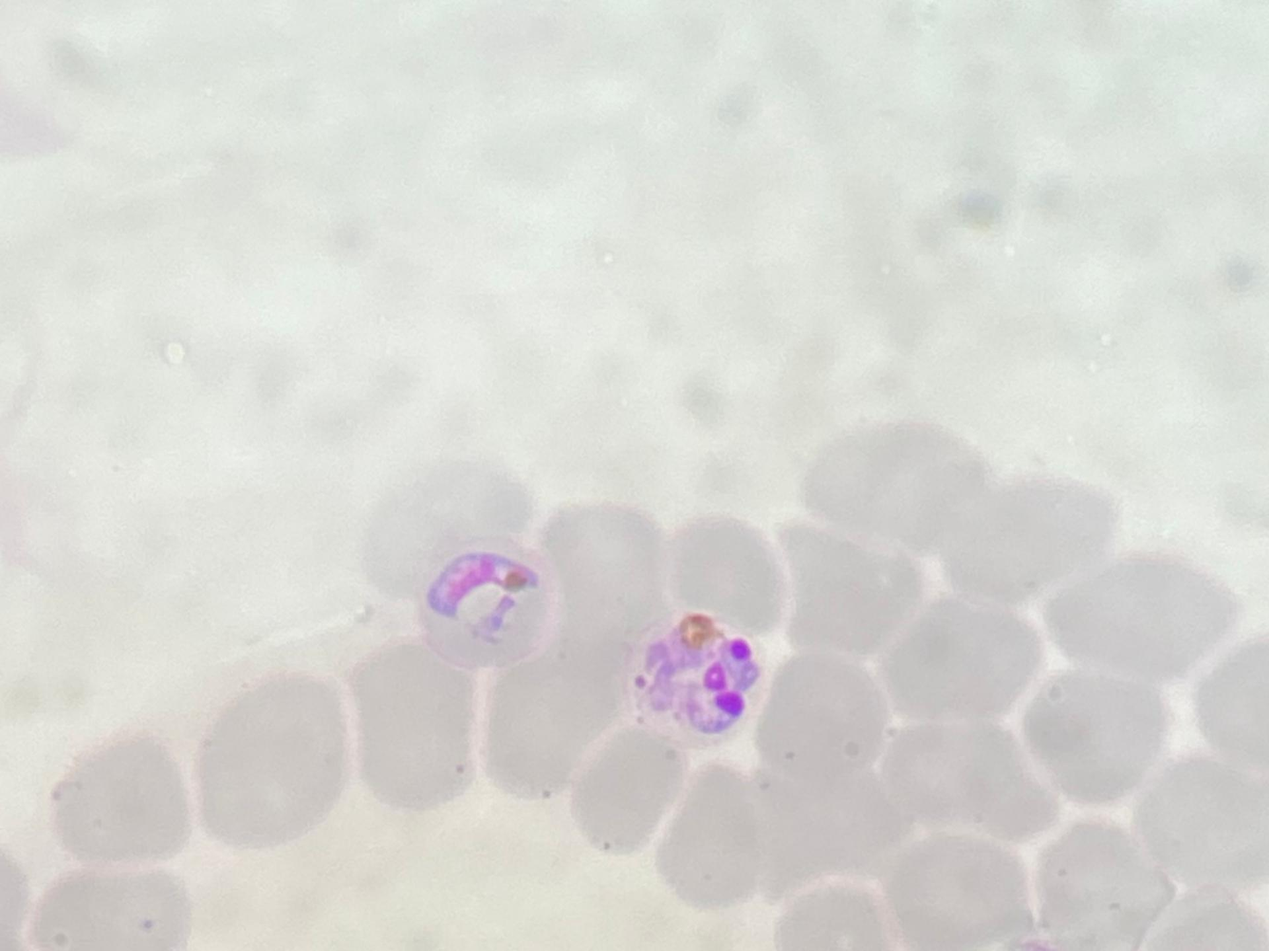Infected: (418, 537, 562, 671), (628, 612, 757, 738)
Uninfected: (196, 670, 350, 851), (1039, 551, 1239, 685), (939, 471, 1116, 607), (348, 641, 483, 816), (876, 712, 1057, 841), (806, 423, 989, 547), (741, 751, 905, 889), (874, 595, 1046, 724), (48, 728, 195, 869), (1022, 670, 1168, 806), (751, 654, 893, 792), (779, 520, 923, 656), (874, 830, 1038, 947), (484, 648, 613, 796), (1027, 818, 1171, 948), (652, 767, 778, 908), (1132, 755, 1264, 887), (543, 500, 664, 643), (568, 730, 687, 860), (666, 513, 788, 639), (26, 864, 194, 948), (1196, 633, 1268, 773)
